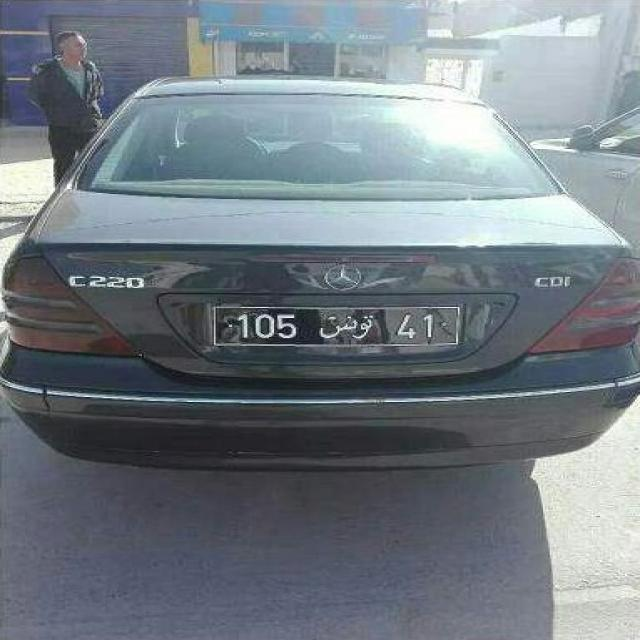licence plate: (216, 308, 458, 343)
